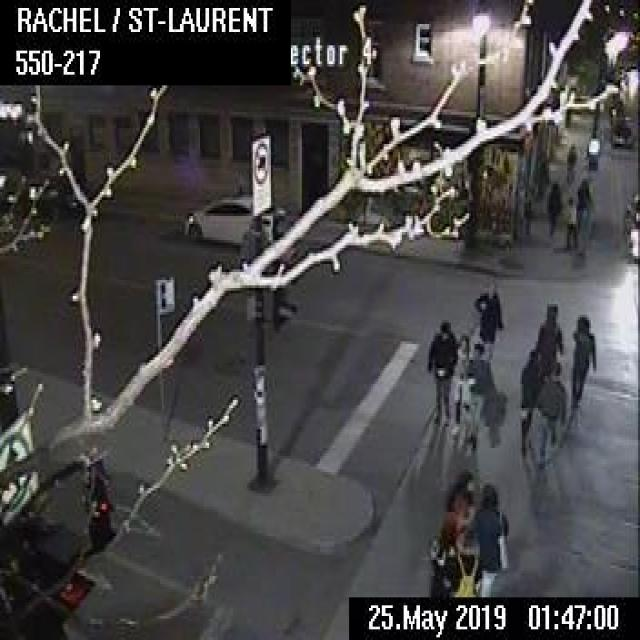pedestrian: (464, 469, 509, 595), (464, 340, 498, 449), (428, 310, 458, 428), (514, 346, 546, 449), (534, 360, 566, 463), (428, 518, 470, 596), (568, 313, 596, 420), (533, 301, 561, 408), (449, 333, 475, 440), (447, 467, 482, 540), (473, 278, 501, 356), (576, 177, 592, 251), (546, 180, 562, 237), (564, 194, 576, 249), (564, 141, 575, 185)
vehicle: (178, 190, 283, 246), (618, 190, 638, 270)
